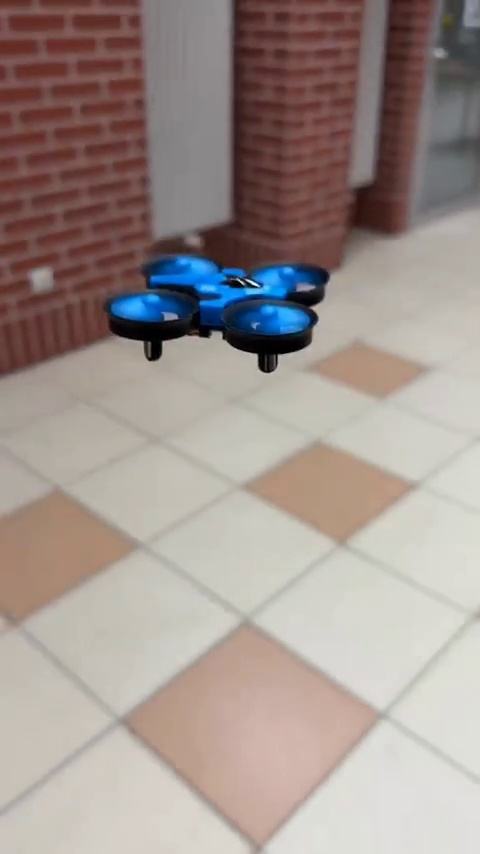drone: (108, 250, 331, 381)
